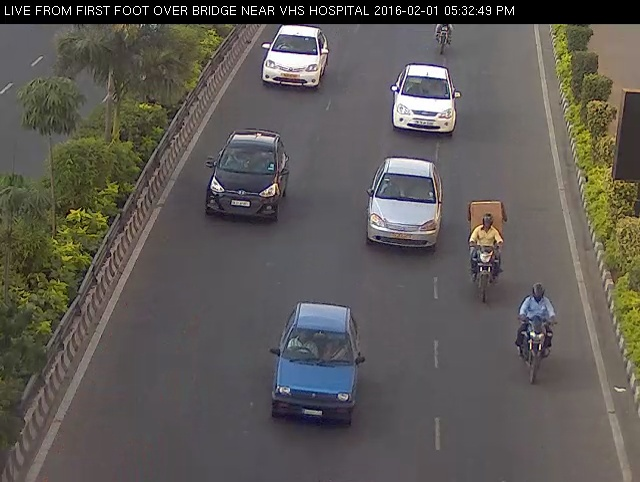Car: (262, 288, 375, 439), (352, 145, 456, 259), (202, 121, 294, 227), (384, 49, 470, 142), (253, 19, 336, 96)
Person: (461, 191, 511, 313), (512, 279, 561, 393), (430, 10, 458, 59)
